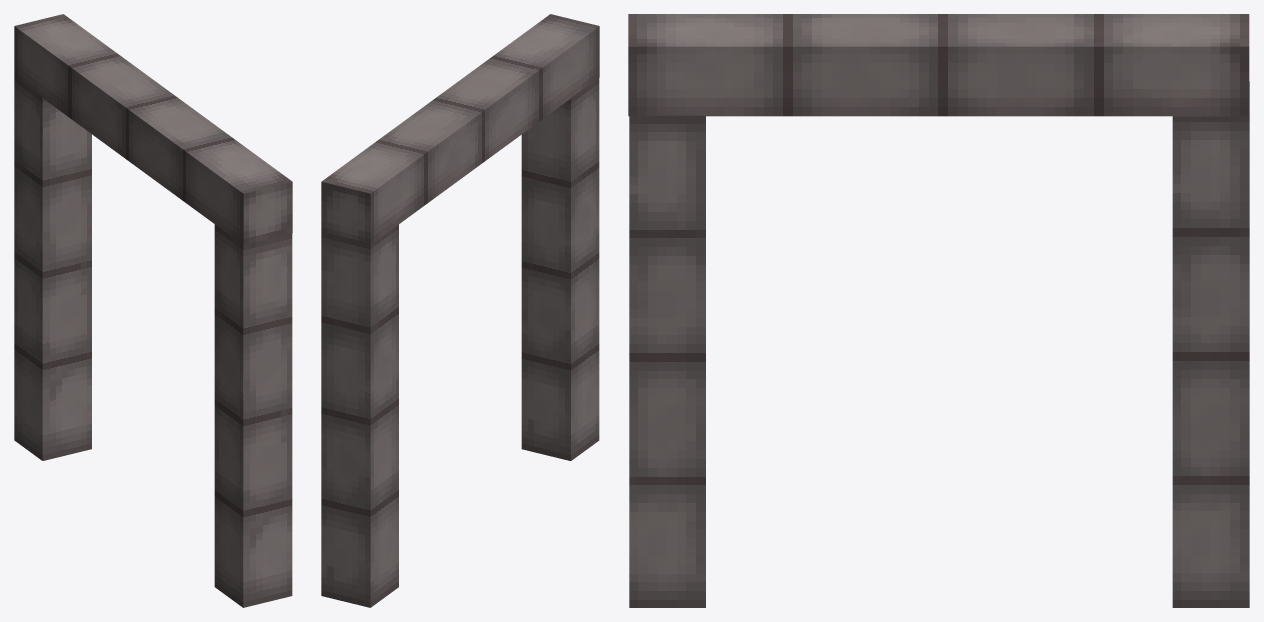
Rendered from Door-frame-geo.fbx.
The picture shows the model from 3 angles, left to right: view 1: azimuth 30°, elevation 25°; view 2: azimuth 150°, elevation 25°; view 3: azimuth 270°, elevation 25°; orthographic projection. The views are drawn at different scales.
Visible parts, largest first — view 1: door_frame_geo; view 2: door_frame_geo; view 3: door_frame_geo.
Boxes of the visible parts, x1,y1,x2,y2 form: door_frame_geo: [14, 14, 292, 607]; door_frame_geo: [321, 14, 599, 607]; door_frame_geo: [628, 14, 1249, 607].
Size of the model in its own units: 0.124 by 0.9978 by 1.
